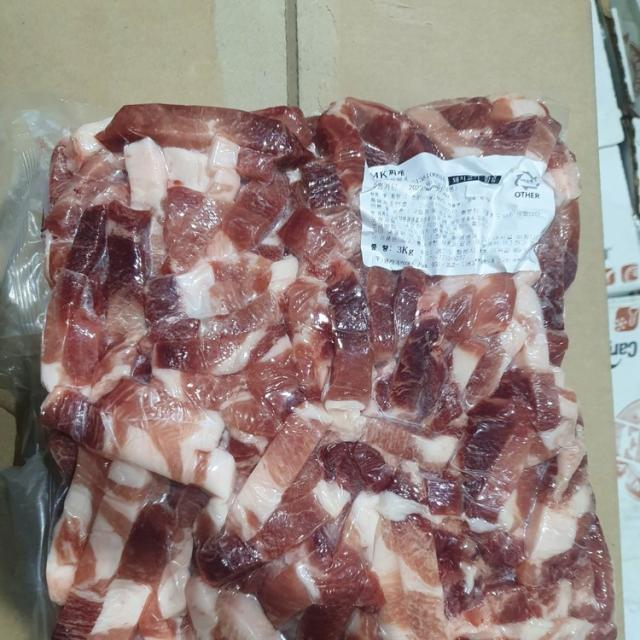pork: (36, 85, 617, 640)
